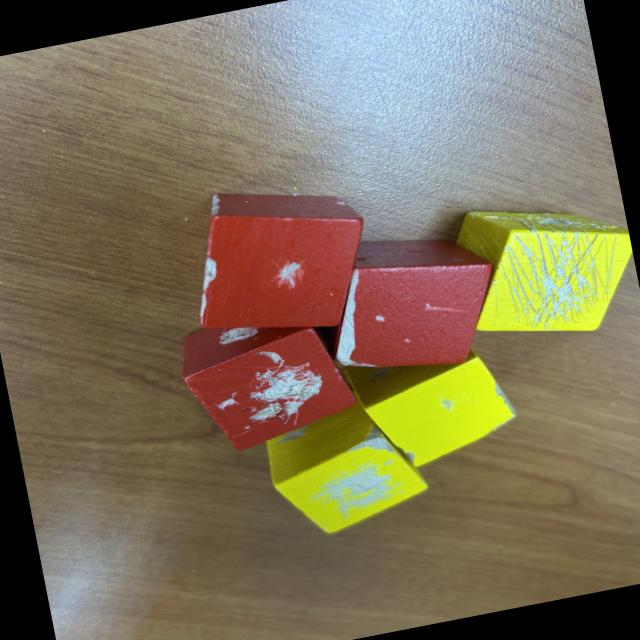broken: (174, 167, 384, 353), (312, 217, 510, 388), (447, 183, 640, 355), (256, 377, 436, 545), (172, 302, 362, 461), (340, 334, 525, 479)
